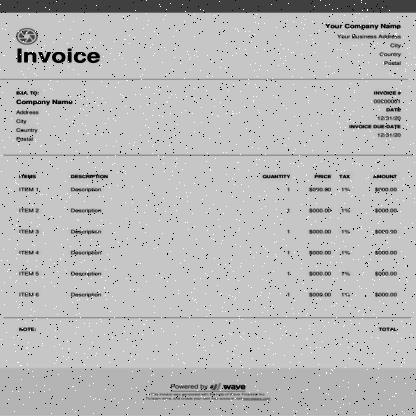Paragraph: (322, 20, 405, 68), (13, 89, 76, 144), (346, 87, 404, 141), (144, 382, 272, 402), (16, 48, 101, 64), (376, 325, 400, 333), (18, 327, 38, 332)
Table: (11, 169, 406, 307)
